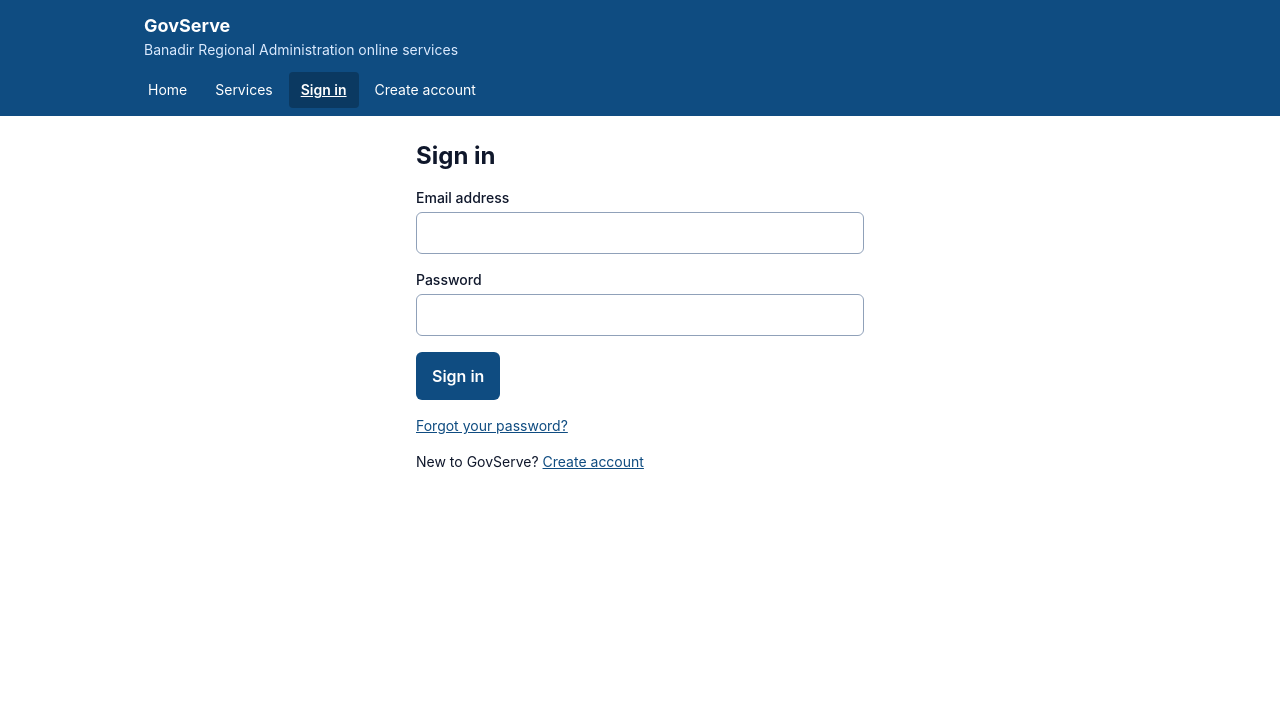
Test: auth pages › should show the API error message when sign-in fails
In the field labelled "Email address": (640, 233) [416, 212, 864, 254], type "a@b.so"
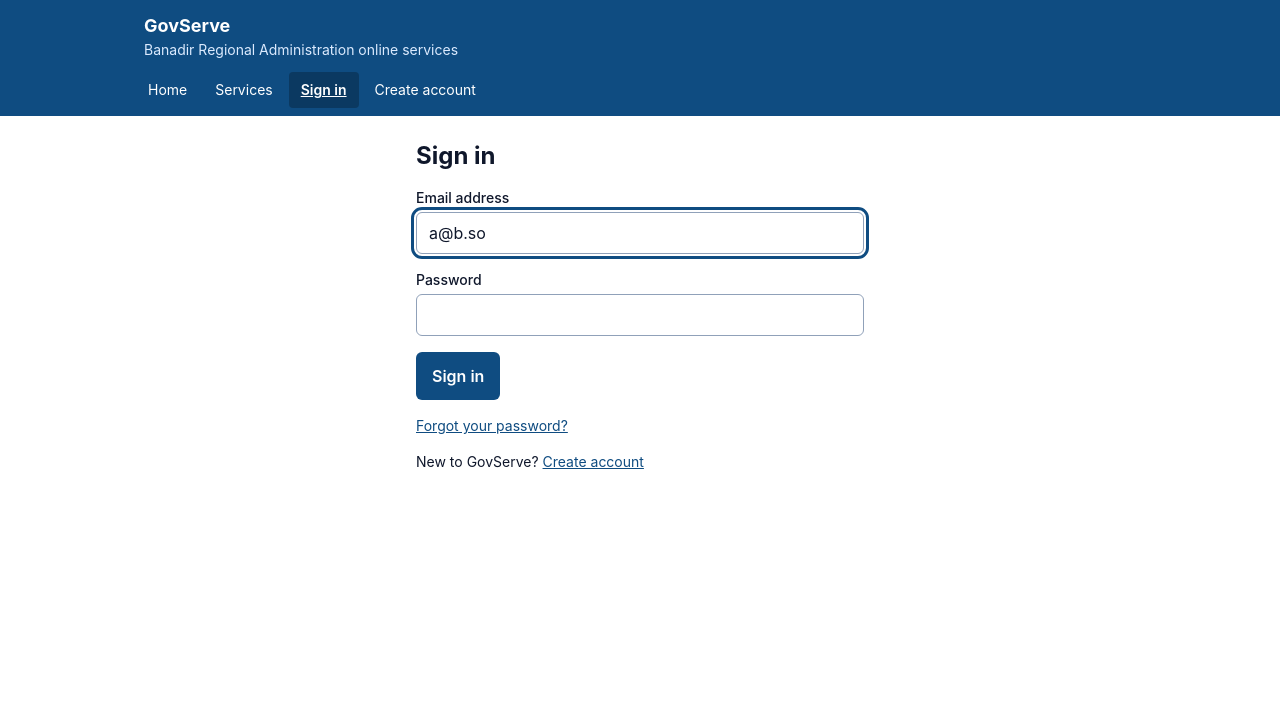
In the password field labelled "Password": (640, 315) [416, 294, 864, 336], type "wrong"
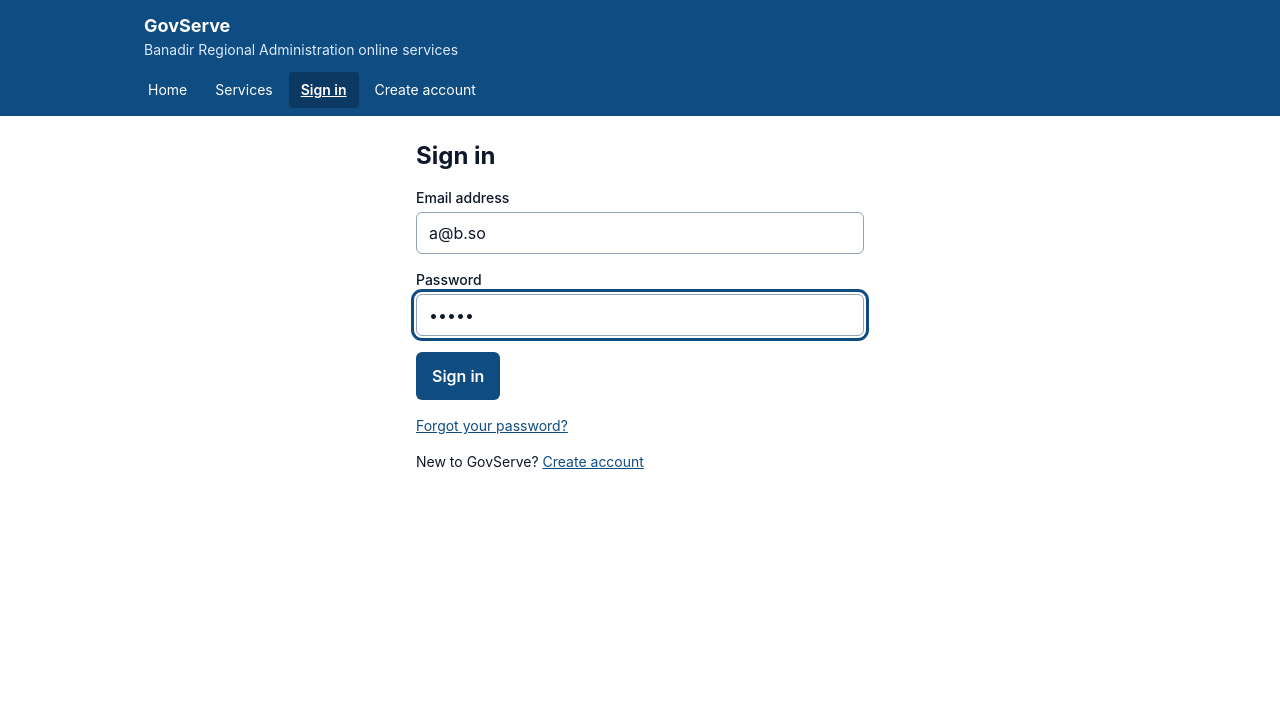
Click the button "Sign in": (458, 376) [416, 352, 500, 400]
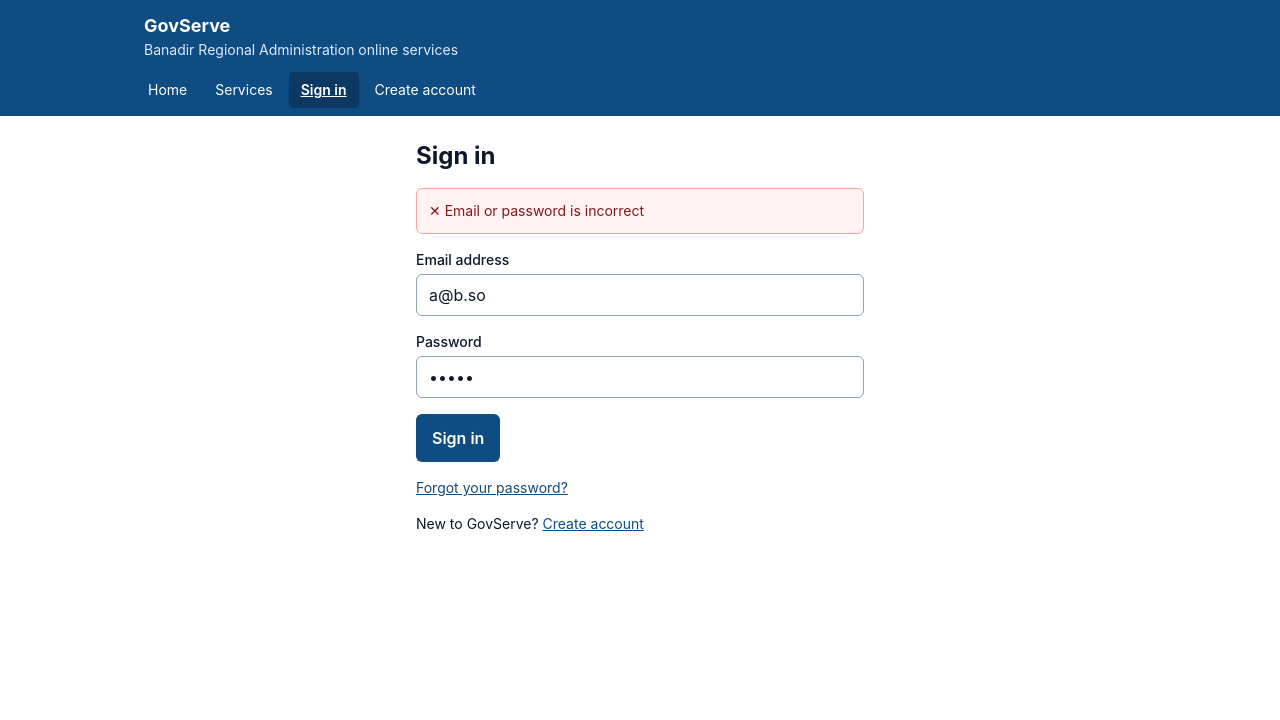
Now the message shows "Email or password is incorrect", box [445, 202, 644, 219]
